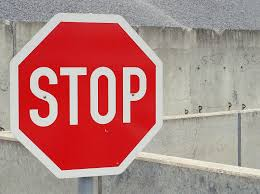stop sign: (10, 12, 162, 176)
